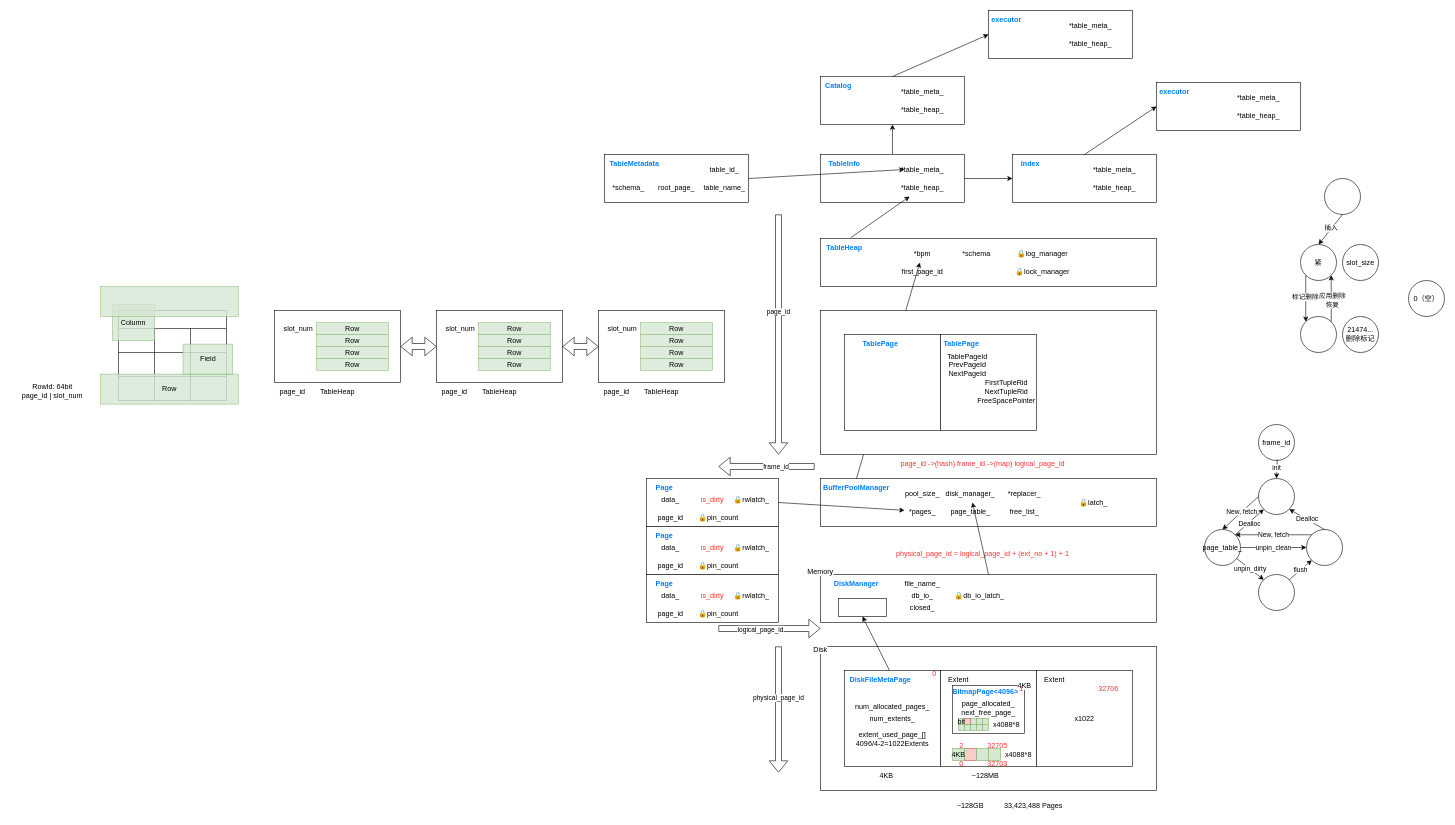
The diagram is 1455 pixels wide and 825 high, and some of its shapes have lost their labels. The box of each missing label's shape, as (x1, y1, x2, y2) in pixels:
free_list: (1258, 478, 1294, 514)
meta_data_: (838, 598, 886, 616)
replacer_ clean: (1306, 529, 1342, 566)
replacer_ dirty: (1258, 574, 1294, 610)
Schema: (100, 286, 238, 316)
Table: (118, 310, 226, 400)
table_page_: (1324, 178, 1360, 214)
有中空: (1300, 316, 1336, 352)
